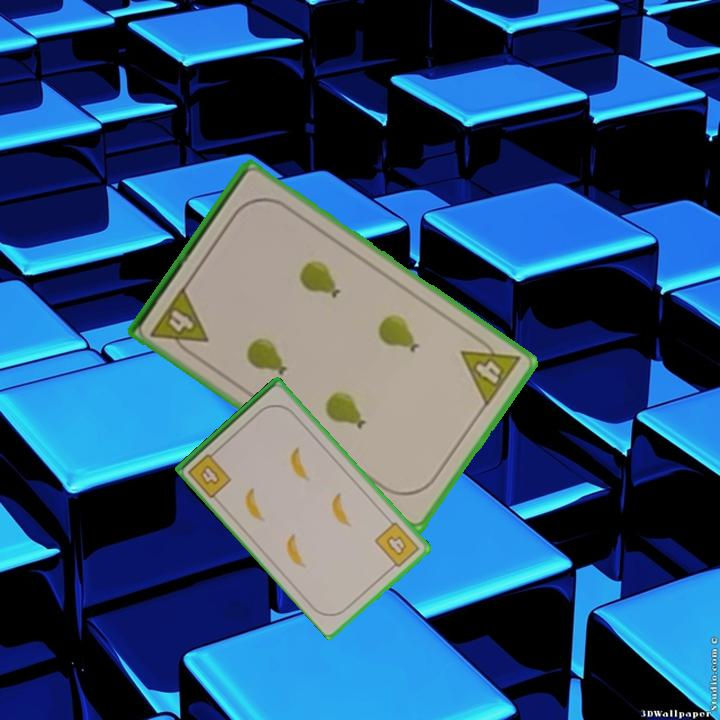4b: (184, 445, 235, 501), (371, 518, 422, 573)
4p: (457, 330, 524, 410), (147, 282, 212, 360)
